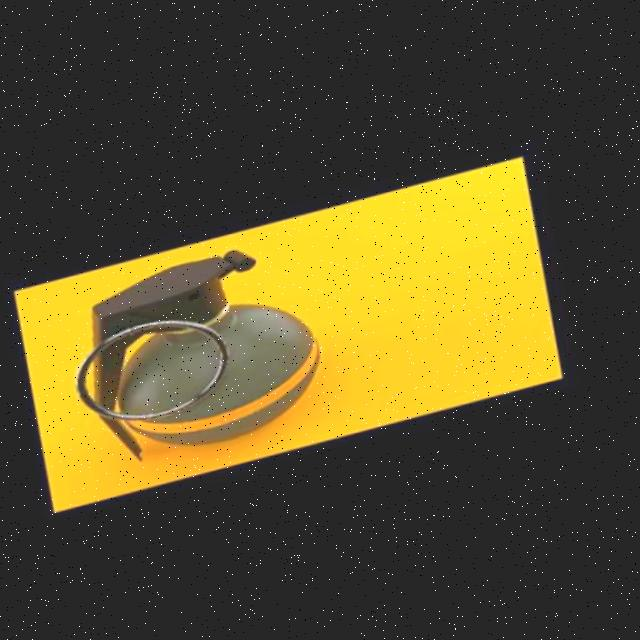grenade: (40, 224, 353, 481)
